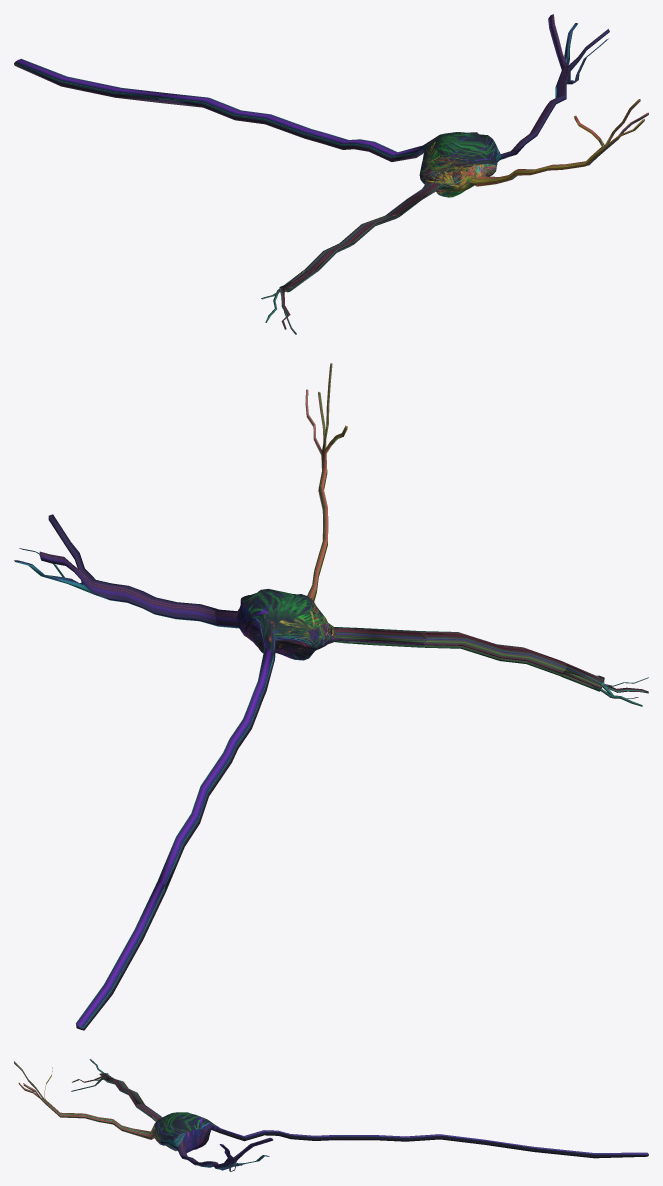
The model's file is neuron11.fbx.
The picture shows the model from 3 angles, top to bottom: view 1: azimuth 30°, elevation 25°; view 2: azimuth 150°, elevation 25°; view 3: azimuth 270°, elevation 25°; orthographic projection. The views are drawn at different scales.
Parts seen in each view (by area): view 1: duplicated; view 2: duplicated; view 3: duplicated.
Boxes of the visible parts, box(x1,y1,x2,y2) form: duplicated: box(14, 14, 648, 334); duplicated: box(14, 363, 648, 1030); duplicated: box(14, 1059, 648, 1171).
Bounding box in the file's own units: 9584 × 4582 × 15591.
